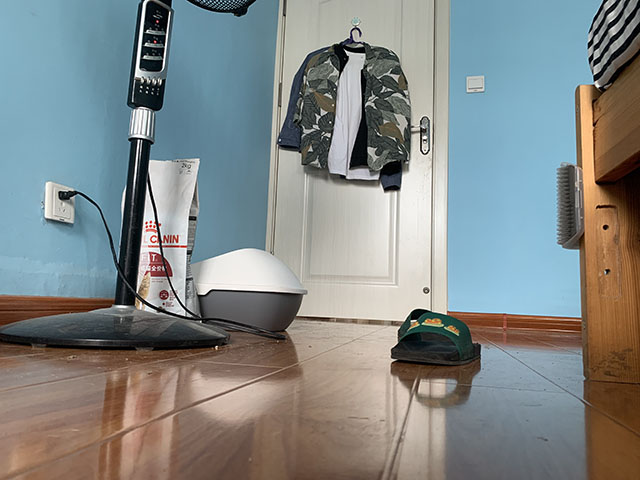slippers: (390, 308, 482, 367)
wire: (57, 170, 288, 341)
